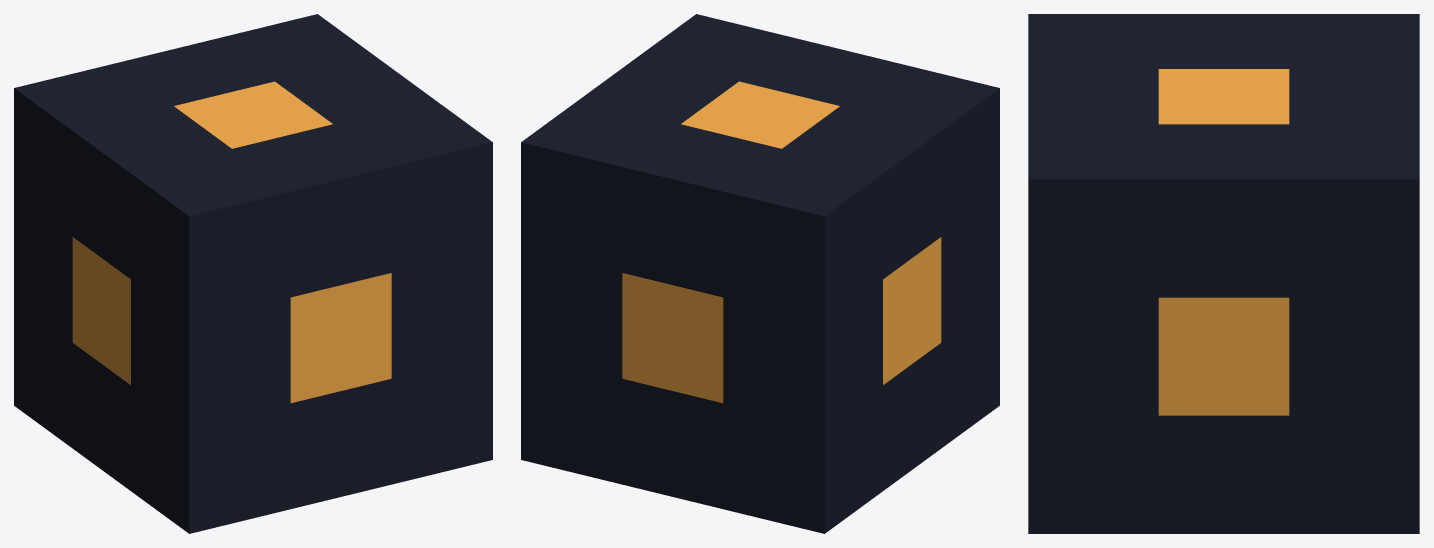
File: ShieldSmall1.obj
3 views of the same model, side by side, from view 1: azimuth 30°, elevation 25°; view 2: azimuth 150°, elevation 25°; view 3: azimuth 270°, elevation 25° (orthographic). The views are drawn at different scales.
Bounding box in the file's own units: 3 × 3 × 3.
1 material, 1 textured.
